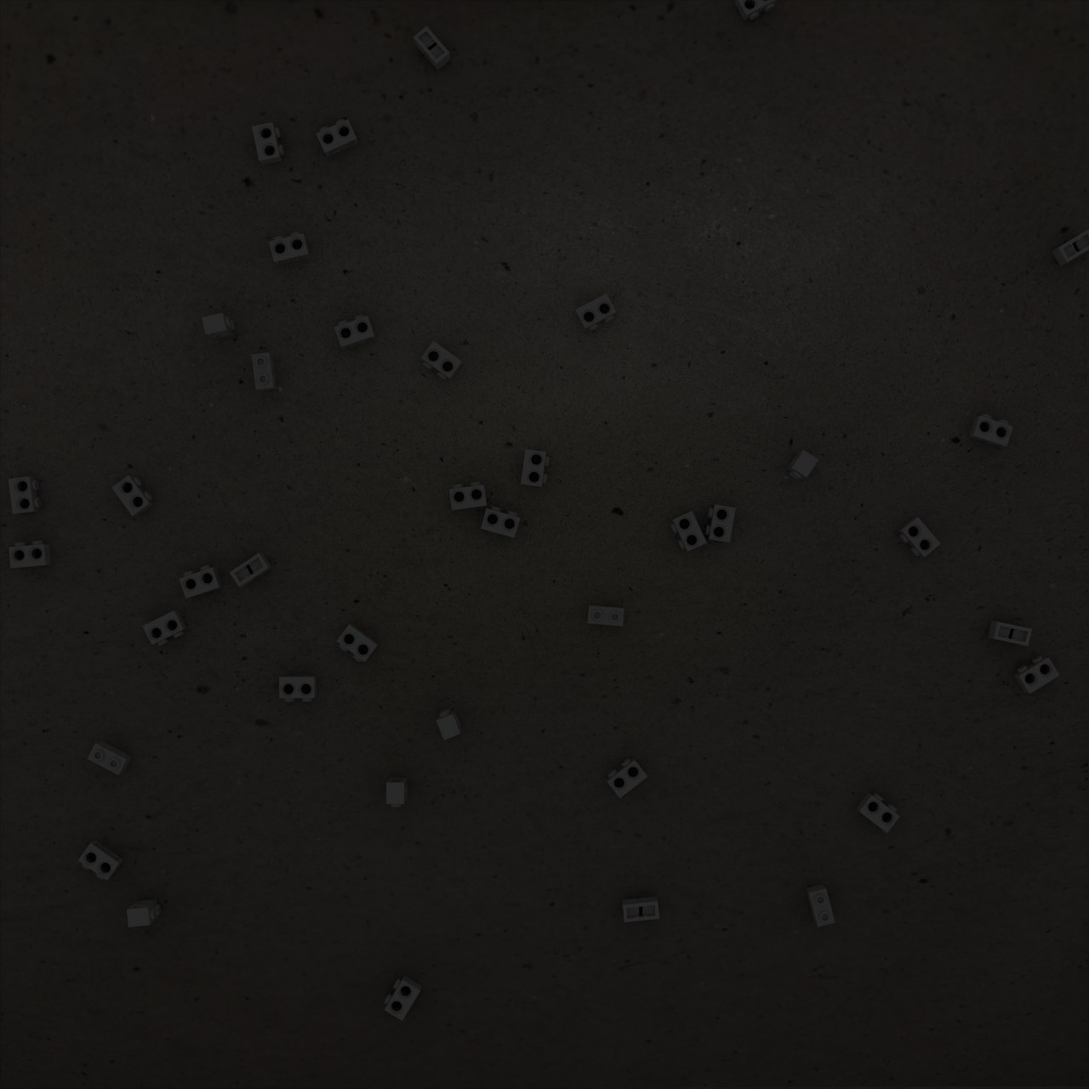lego: (78, 840, 124, 881), (1013, 655, 1060, 694), (856, 792, 900, 833), (111, 475, 154, 516), (384, 975, 422, 1021), (898, 517, 941, 557), (413, 26, 451, 71), (606, 758, 648, 798), (336, 623, 379, 662), (421, 341, 463, 380), (316, 119, 359, 157), (142, 610, 187, 646), (575, 293, 617, 331), (87, 740, 132, 775), (968, 414, 1013, 448), (670, 511, 707, 552), (179, 565, 223, 599), (334, 314, 376, 349), (229, 553, 272, 587), (1051, 229, 1089, 267), (269, 232, 311, 265), (252, 122, 284, 165), (481, 506, 521, 538), (8, 476, 41, 514), (806, 884, 835, 927), (705, 504, 736, 543), (988, 620, 1032, 646), (9, 541, 51, 568), (449, 482, 487, 511), (521, 449, 549, 487), (251, 352, 277, 392), (279, 675, 317, 702), (786, 450, 819, 480), (622, 896, 660, 922), (127, 899, 161, 927), (734, 0, 778, 21), (202, 313, 235, 339), (436, 709, 462, 740), (587, 605, 624, 626), (386, 777, 407, 807)
